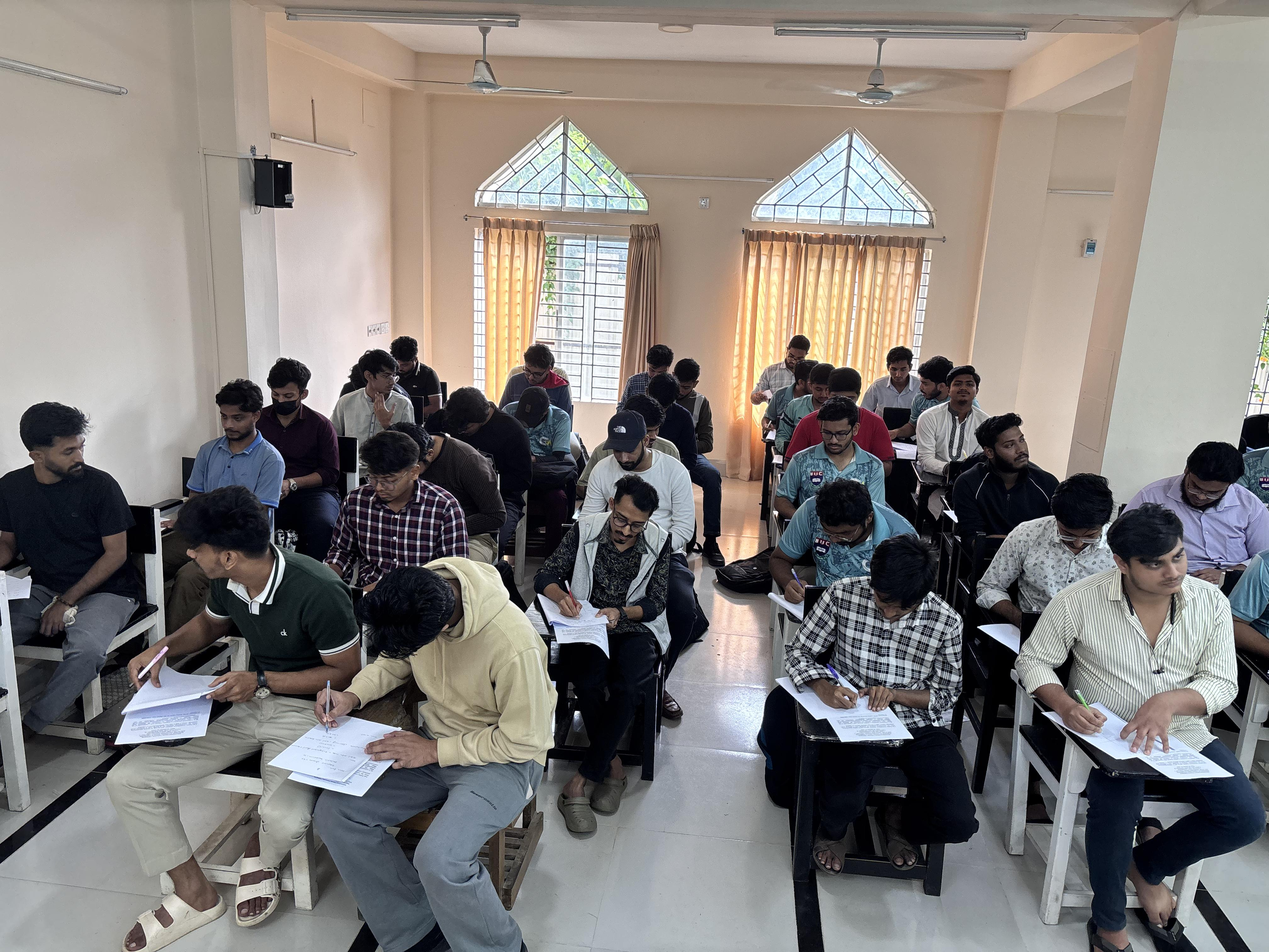copying: (137, 479, 292, 776), (14, 398, 129, 572), (341, 344, 419, 437), (909, 353, 944, 423)
no_cheating: (1050, 503, 1243, 842), (334, 554, 530, 844), (795, 536, 969, 809), (551, 468, 669, 675), (335, 427, 444, 578), (955, 406, 1059, 536), (1019, 458, 1118, 591), (1156, 428, 1260, 546), (781, 475, 890, 582), (199, 376, 282, 510), (805, 391, 883, 499), (599, 406, 662, 486), (265, 353, 317, 442), (939, 361, 988, 453), (438, 383, 494, 463), (872, 343, 921, 420), (508, 388, 565, 450), (515, 336, 572, 388), (391, 332, 435, 384), (777, 330, 810, 374)
